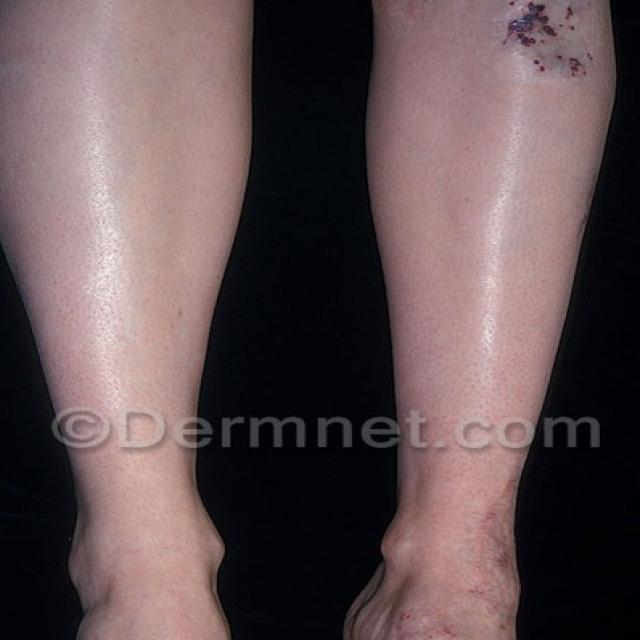Vascular Tumors: (348, 559, 570, 640), (473, 0, 585, 95)
